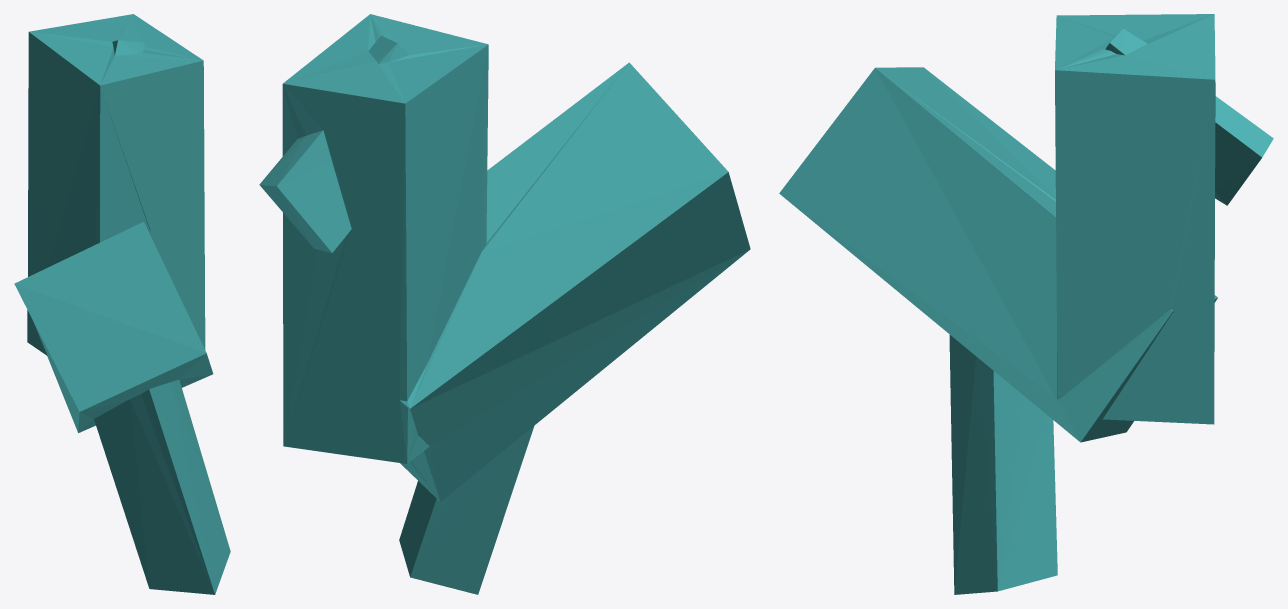
3 renders of one model, left to right at view 1: azimuth 30°, elevation 25°; view 2: azimuth 150°, elevation 25°; view 3: azimuth 270°, elevation 25°, orthographic. The views are drawn at different scales.
Parts seen in each view (by area): view 1: 054_Cube.221; view 2: 054_Cube.221; view 3: 054_Cube.221.
Boxes of the visible parts, x1=… form: 054_Cube.221: x1=14, y1=14, x2=230, y2=594; 054_Cube.221: x1=259, y1=14, x2=750, y2=594; 054_Cube.221: x1=779, y1=14, x2=1273, y2=594.
Size of the model in its own units: 10.96 by 19.65 by 15.75.
